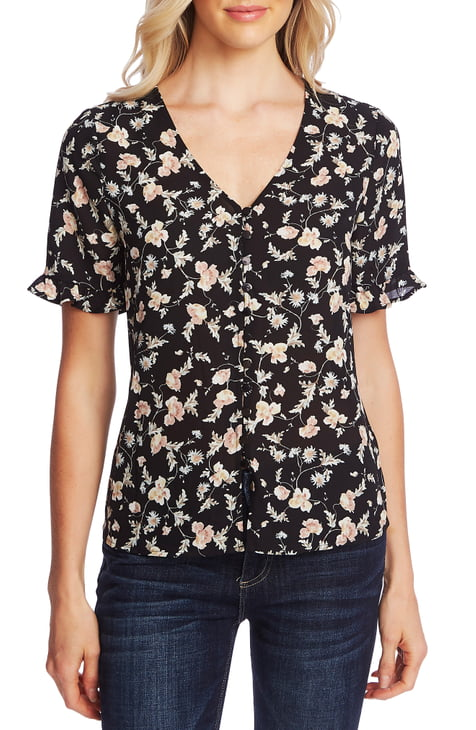C_jeans: (91, 541, 388, 730)
C_short blouse: (29, 90, 429, 558)
